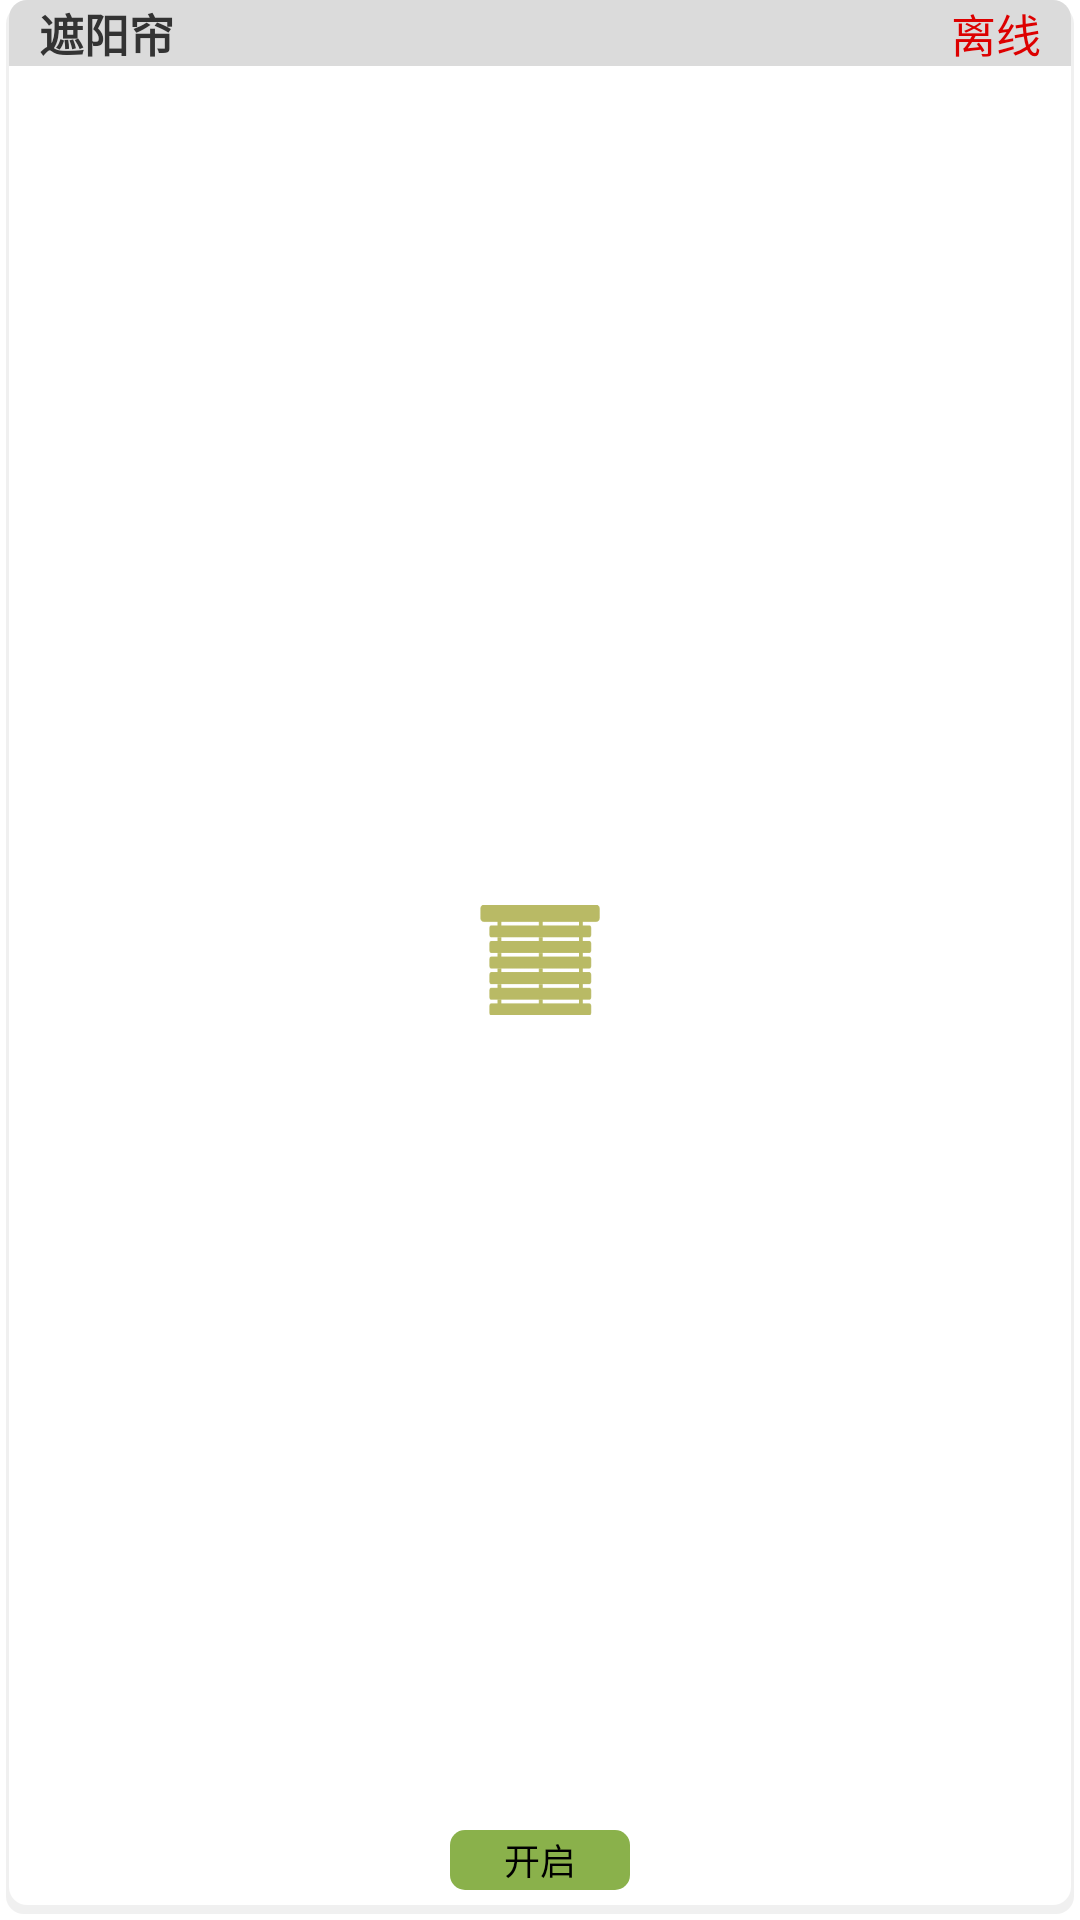

Locate icon controls on the screen. Image size 1080 × 1920, boxes as bbox(x1, y1, x2, y2).
curtains off: bbox(480, 905, 600, 1015)
